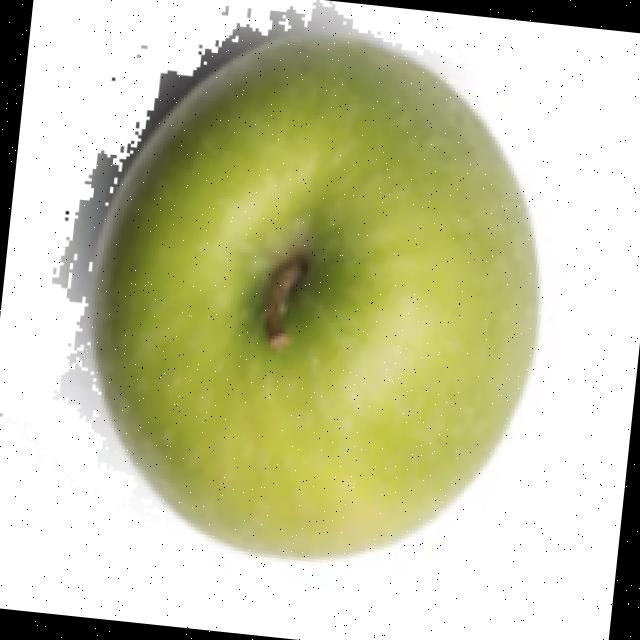apple: (50, 1, 546, 567)
